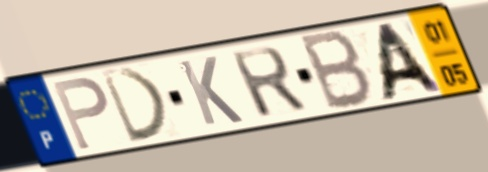A: (374, 19, 448, 104)
B: (297, 27, 376, 113)
D: (97, 65, 172, 146)
K: (174, 54, 247, 128)
P: (48, 74, 112, 153)
R: (226, 44, 311, 121)
